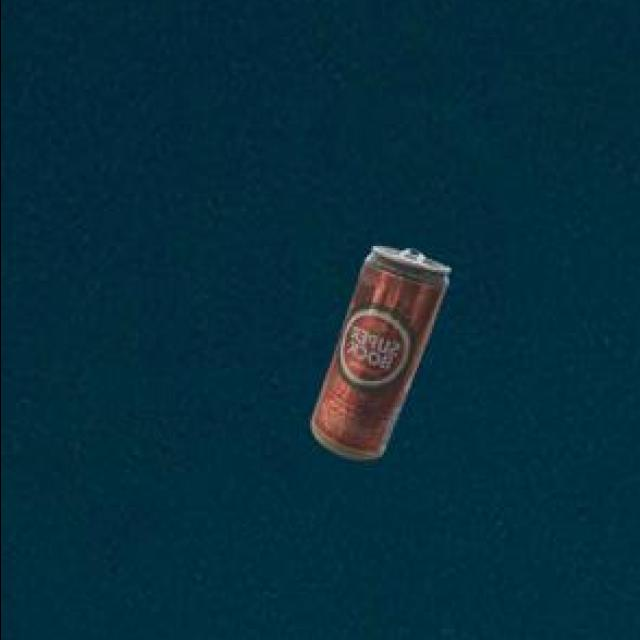logam: (315, 249, 451, 463)
